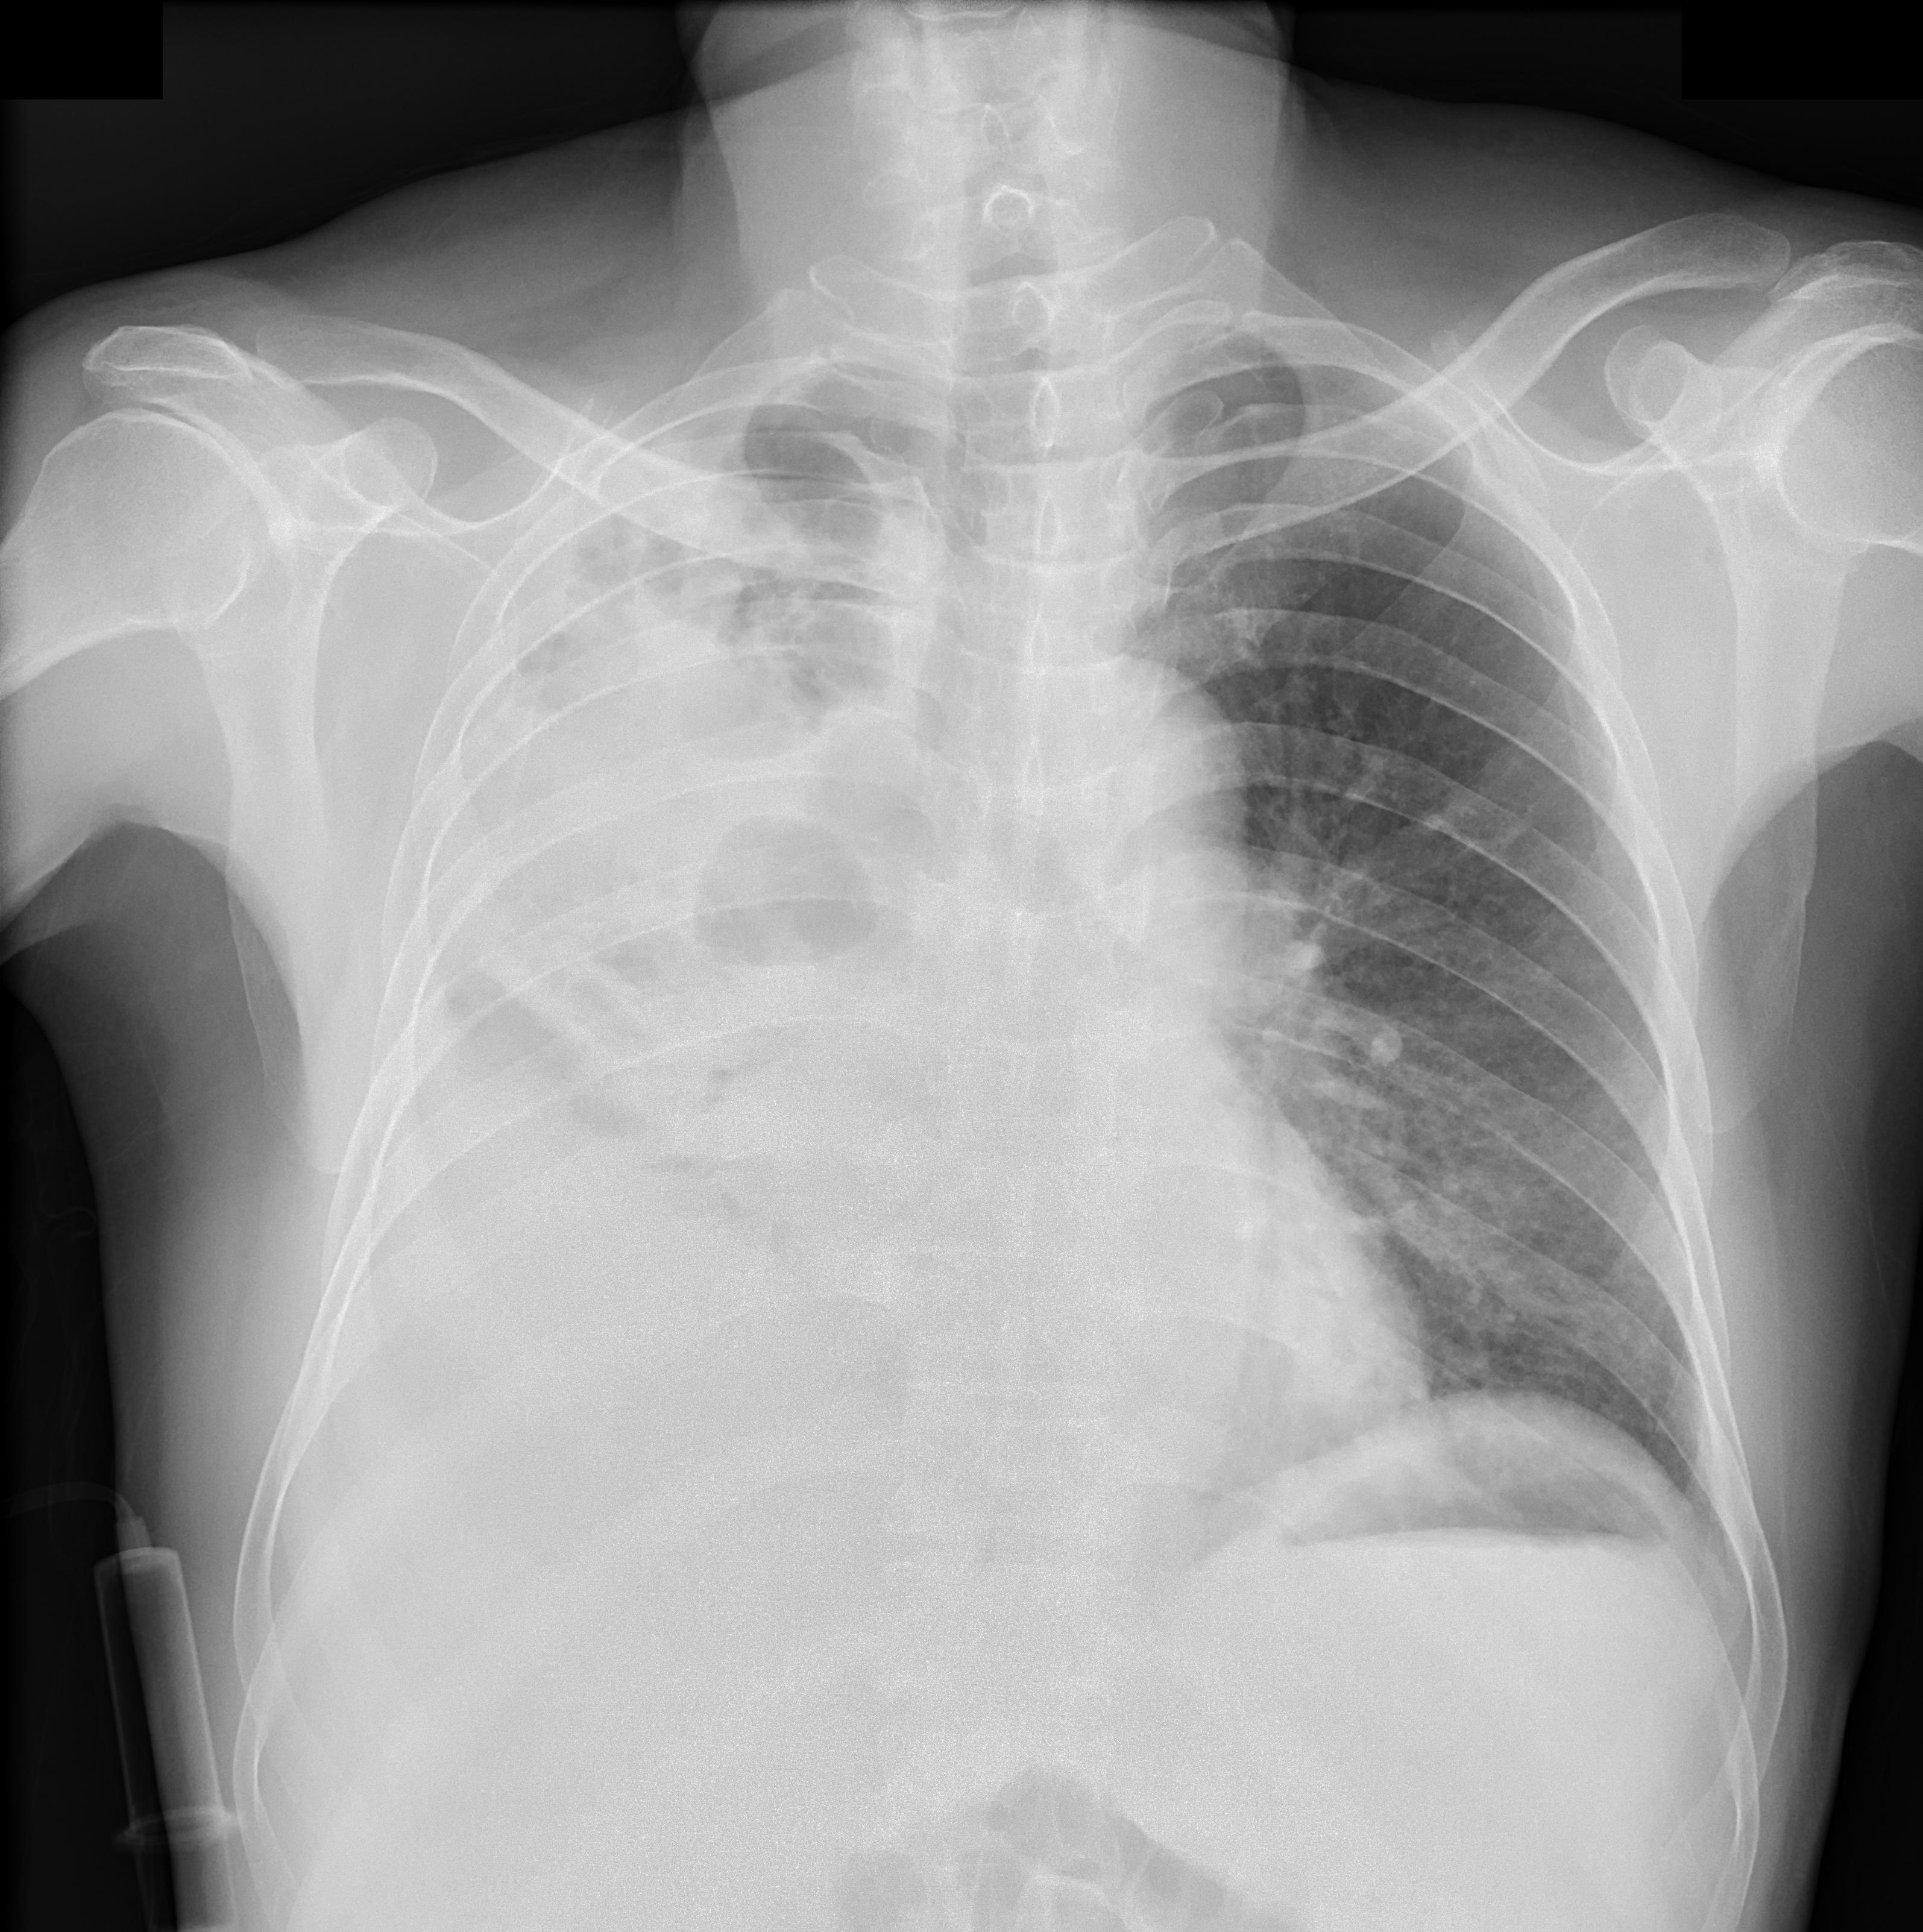lung_opacity: (368, 412, 914, 1194), (454, 465, 882, 1150), (530, 516, 889, 740)
pleural_effusion: (342, 356, 960, 1532), (320, 386, 932, 1553), (261, 1011, 859, 1611)
